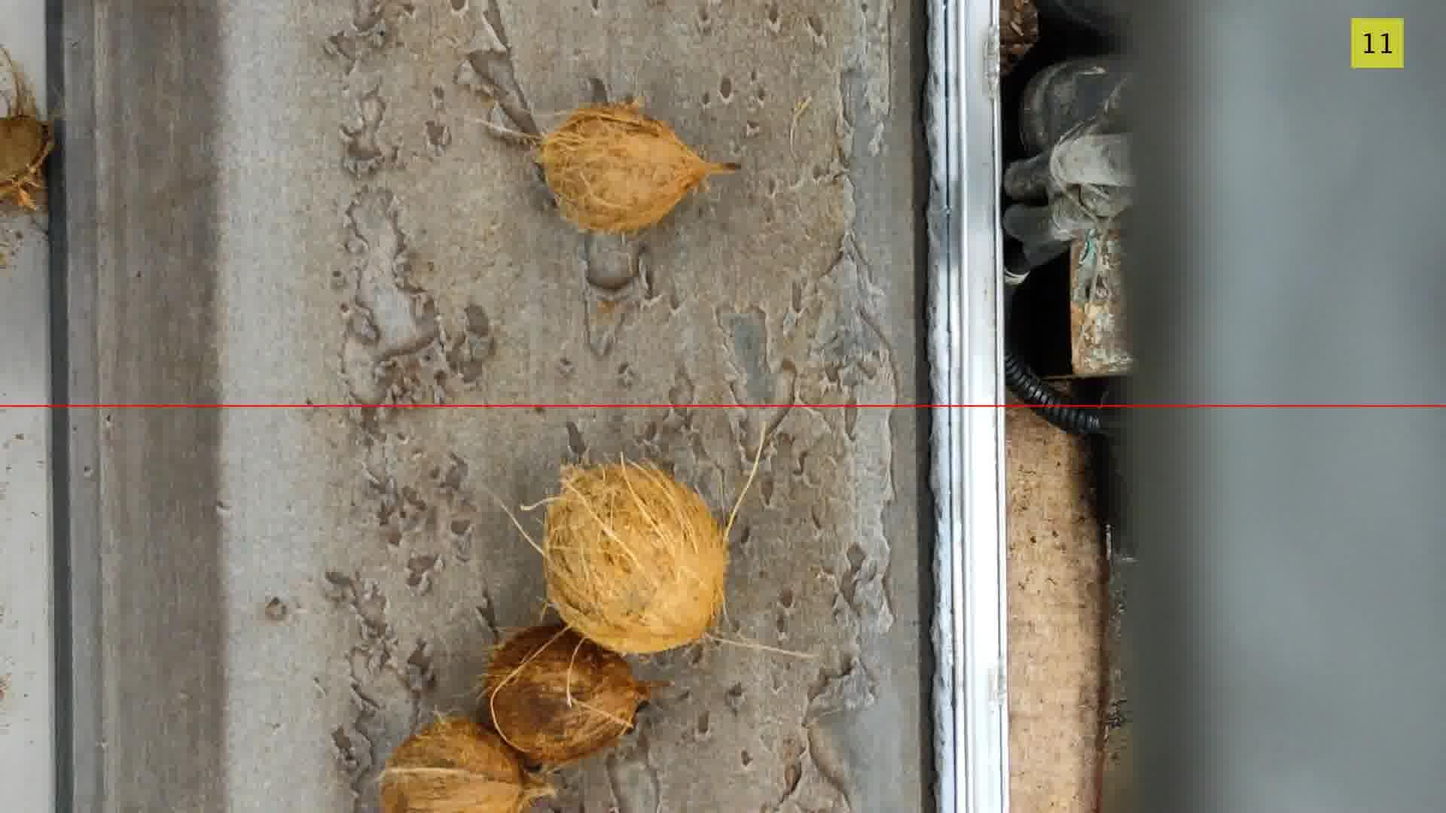Coconut: (541, 461, 728, 654), (536, 101, 714, 242), (483, 623, 650, 766), (380, 716, 552, 812), (0, 48, 53, 211)
